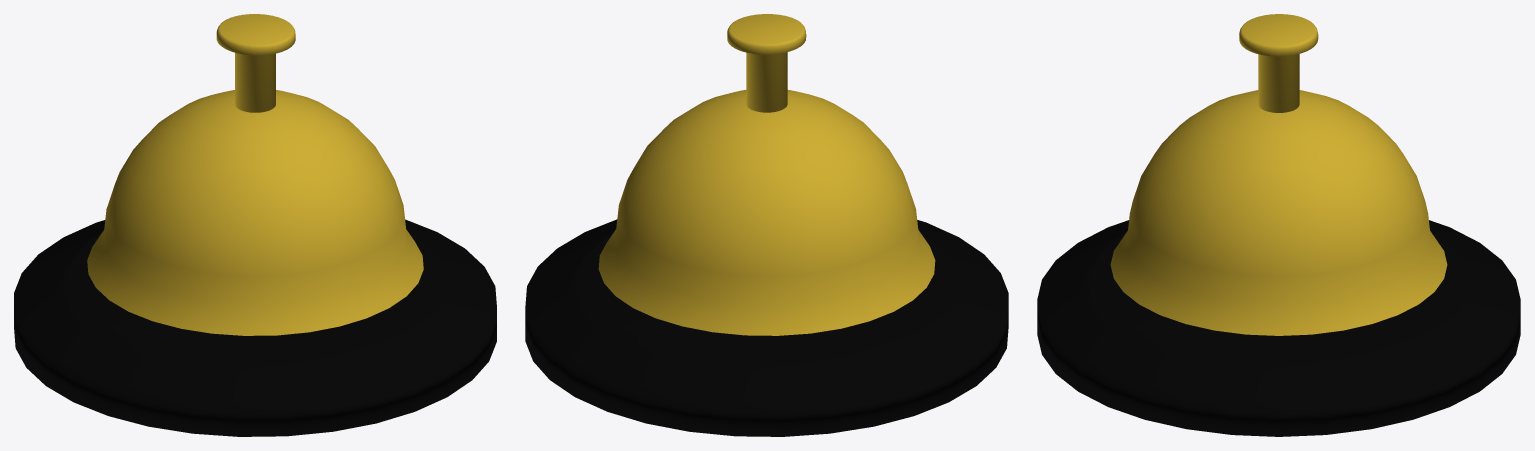
The model's file is Bell.fbx.
The picture shows the model from 3 angles, left to right: view 1: azimuth 30°, elevation 25°; view 2: azimuth 150°, elevation 25°; view 3: azimuth 270°, elevation 25°; orthographic projection.
Visible parts, largest first — view 1: Sphere, Cylinder, Cylinder.001; view 2: Sphere, Cylinder, Cylinder.001; view 3: Sphere, Cylinder, Cylinder.001.
Boxes of the visible parts, x1=… form: Sphere: x1=87, y1=90, x2=423, y2=335; Cylinder: x1=14, y1=219, x2=496, y2=436; Cylinder.001: x1=216, y1=14, x2=295, y2=112; Sphere: x1=598, y1=90, x2=935, y2=335; Cylinder: x1=525, y1=219, x2=1008, y2=436; Cylinder.001: x1=727, y1=14, x2=806, y2=112; Sphere: x1=1110, y1=90, x2=1447, y2=335; Cylinder: x1=1037, y1=220, x2=1520, y2=436; Cylinder.001: x1=1239, y1=14, x2=1318, y2=112.
Size of the model in its own units: 62.53 by 43.64 by 62.53.
